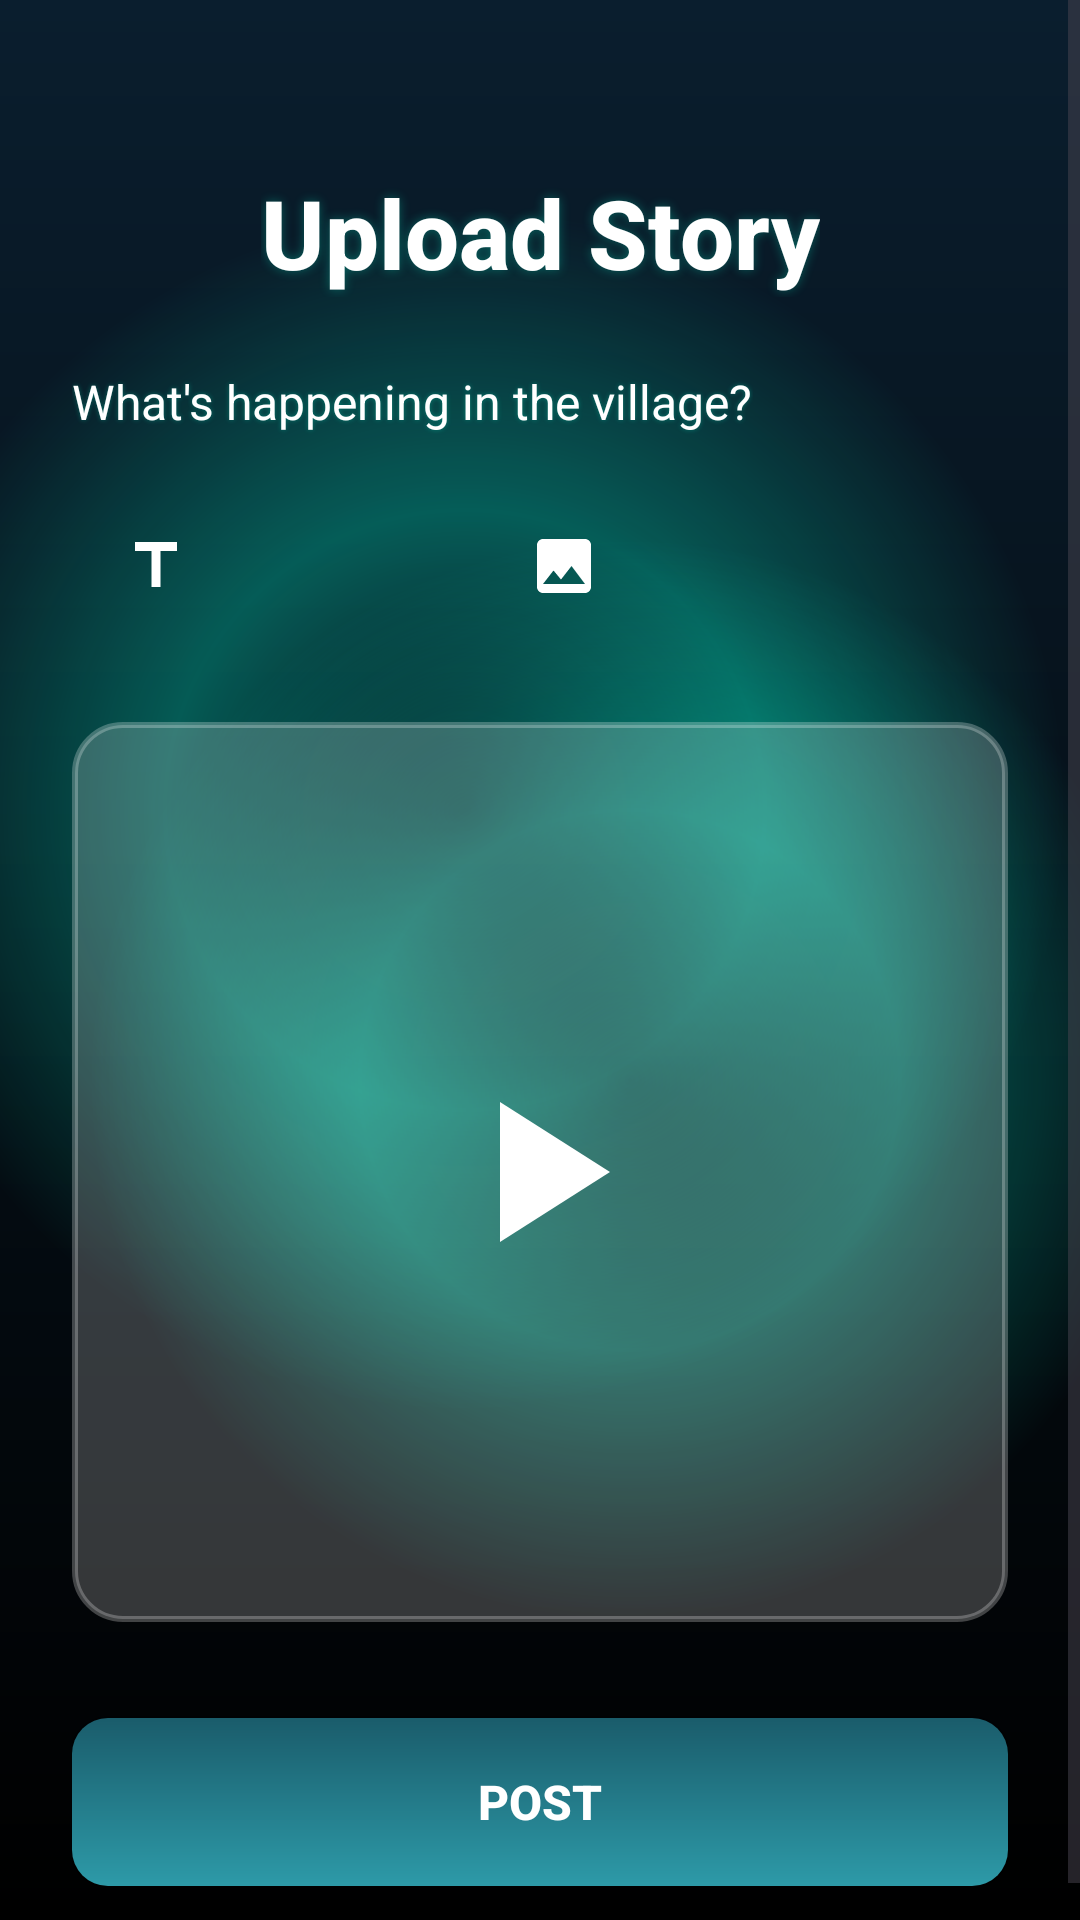

Where to tap for icons on this 1080 × 1920 app screen, as [x,y]:
mountain: [564,566]
play: [555,1172]
